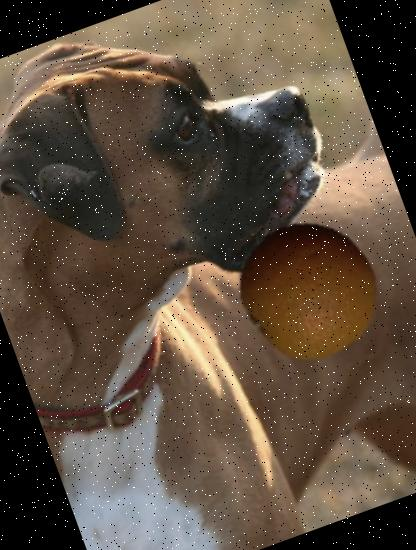Beetroot: (16, 132, 112, 229)
Orange: (218, 198, 400, 381)
